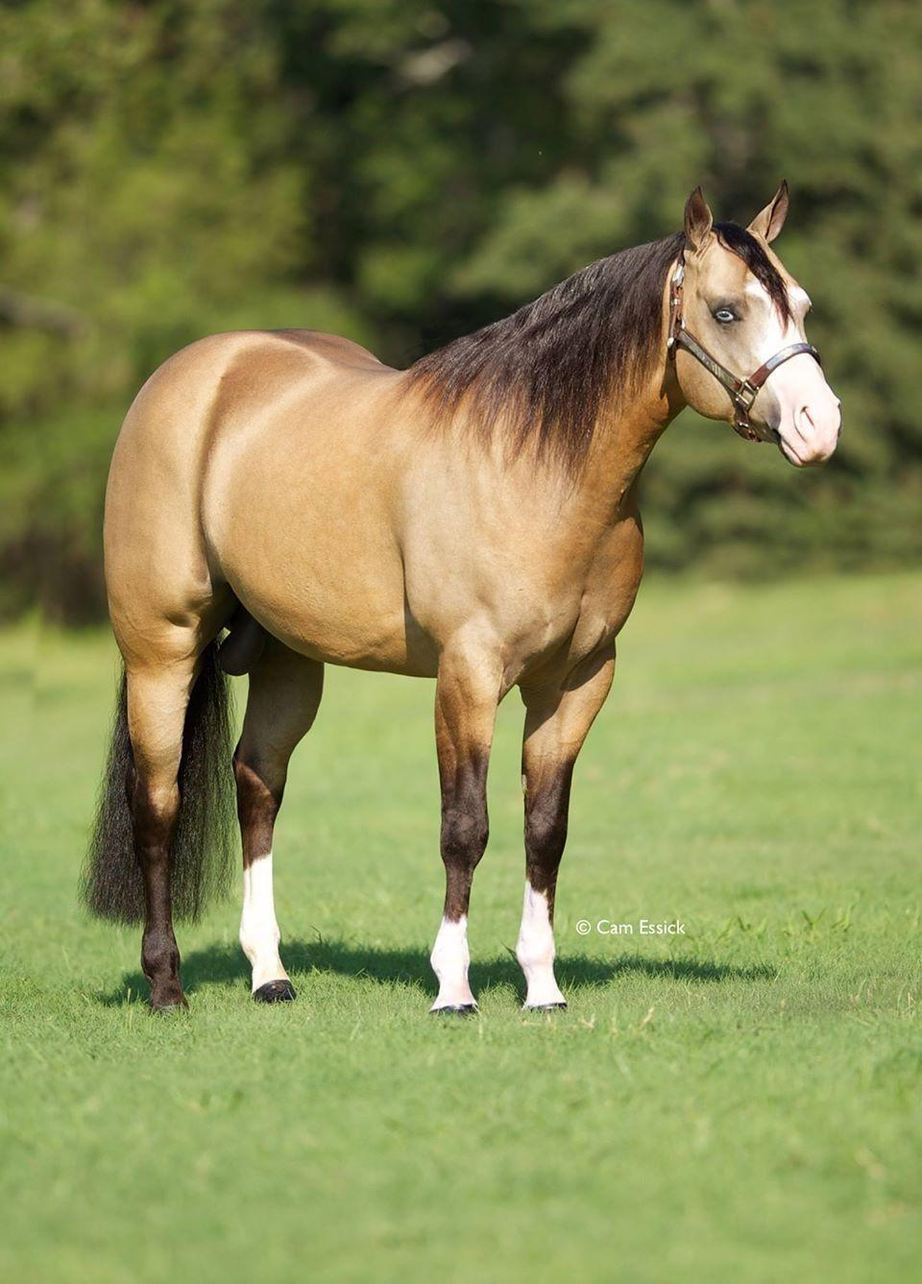horse: (70, 176, 866, 1030)
